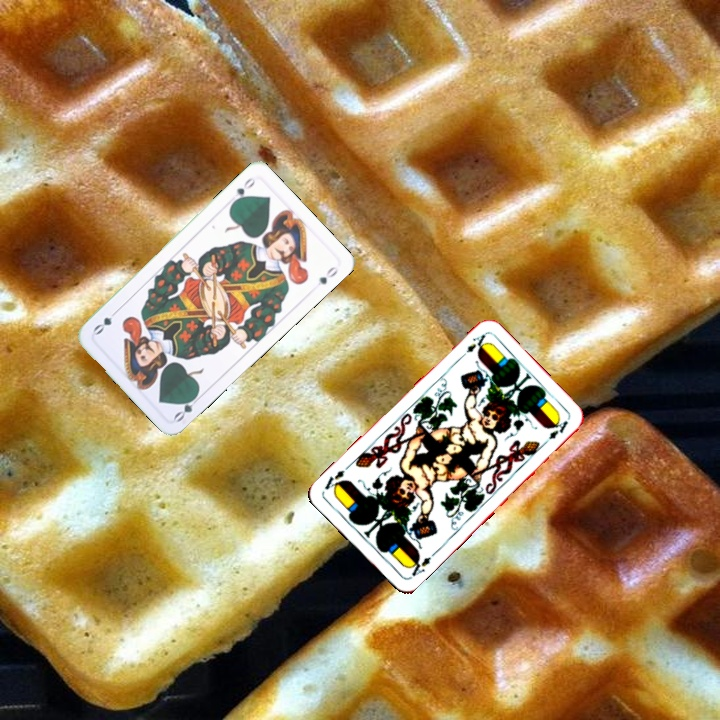EA: (455, 330, 489, 362), (404, 552, 434, 582)
GO: (170, 389, 204, 425), (228, 173, 259, 207)
